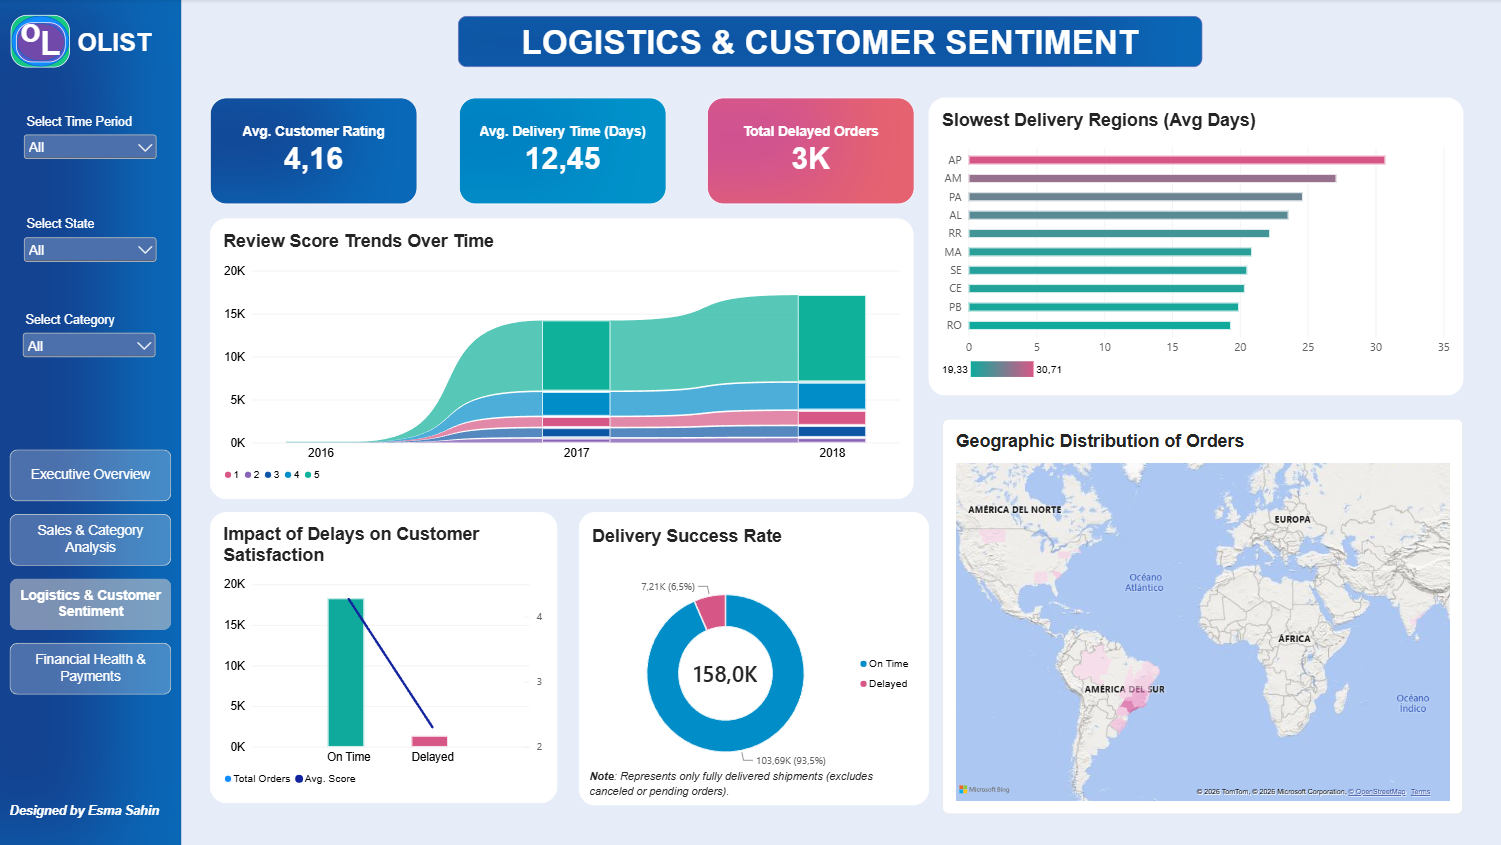

Layout of this report page (visuals, bound fields, positions):
{"tool":"powerbi","page":{"name":"Logistics & Customer Sentiment","canvas":[1920,1080],"ordinal":2},"visuals":[{"type":"shape","box":[0,0,232.2,1080.1],"z":0},{"type":"shape","box":[15.2,20.8,75.8,67],"z":0,"group":"g1"},{"type":"slicer","fields":{"Values":["06_fact_order_items.order_purchase_date.Variation.Jerarquía de fechas.Año","06_fact_order_items.order_purchase_date.Variation.Jerarquía de fechas.Mes"]},"box":[28.2,146.9,178.8,74.2],"z":0,"group":"g2"},{"type":"shape","box":[22,29.7,63.5,50.8],"z":1000,"group":"g1"},{"type":"slicer","fields":{"Values":["08_dim_customers.customer_state"]},"box":[28.2,278.1,178.8,69.7],"z":1000,"group":"g2"},{"type":"lineClusteredColumnComboChart","title":"Impact of Delays on Customer Satisfaction","fields":{"Category":["09_fact_reviews_and_logistics.delivery_status"],"Y":["Count(09_fact_reviews_and_logistics.order_id)"],"Y2":["Avg(09_fact_reviews_and_logistics.review_score)"]},"box":[269.2,653.8,442.3,371.2],"z":1000},{"type":"textbox","box":[27.5,16.3,72.5,81.9],"z":2000,"group":"g1"},{"type":"cardVisual","fields":{"Data":["Count(09_fact_reviews_and_logistics.order_id)"]},"box":[901.9,125,264,136],"z":2000},{"type":"slicer","fields":{"Values":["07_dim_products.product_category_name_english"]},"box":[26.6,400,178.8,81.8],"z":2000,"group":"g2"},{"type":"textbox","box":[52.9,32.5,39.5,52.3],"z":3000,"group":"g1"},{"type":"textbox","box":[100,36.7,96.2,39.2],"z":3000,"group":"g2"},{"type":"cardVisual","fields":{"Data":["Avg(09_fact_reviews_and_logistics.Delivery Days)"]},"box":[586.5,125,264,136],"z":3000},{"type":"group","id":"g1","title":"Group 1","box":[15.2,16.3,84.9,82.6],"z":4000,"group":"g2"},{"type":"cardVisual","fields":{"Data":["Avg(09_fact_reviews_and_logistics.review_score)"]},"box":[269.2,125,264,136],"z":4000},{"type":"ribbonChart","title":"Review Score Trends Over Time","fields":{"Category":["06_fact_order_items.order_purchase_date.Variation.Jerarquía de fechas.Año","06_fact_order_items.order_purchase_date.Variation.Jerarquía de fechas.Mes"],"Y":["Count(09_fact_reviews_and_logistics.order_id)"],"Series":["09_fact_reviews_and_logistics.review_score"]},"box":[269.2,278.8,896.2,357.7],"z":5000},{"type":"pageNavigator","box":[14.3,573.9,206.1,313.6],"z":5000,"group":"g2"},{"type":"filledMap","title":"Geographic Distribution of Orders","fields":{"Category":["08_dim_customers.customer_state"]},"box":[1201.9,534.6,663.5,503.8],"z":6000},{"type":"textbox","box":[14.1,1025,192.2,28.1],"z":6000,"group":"g2"},{"type":"barChart","title":"Slowest Delivery Regions (Avg Days)","fields":{"Category":["08_dim_customers.customer_state"],"Y":["Avg(09_fact_reviews_and_logistics.Delivery Days)"]},"box":[1184.6,125,680.8,378.8],"z":7000},{"type":"donutChart","title":"Delivery Success Rate","fields":{"Category":["09_fact_reviews_and_logistics.delivery_status"],"Y":["CountNonNull(06_fact_order_items.order_id)"]},"box":[738.3,653.3,446.7,373.3],"z":8000},{"type":"group","id":"g2","title":"Group 2","box":[14.1,16.3,206.3,1036.8],"z":9000},{"type":"textbox","box":[584.6,21.2,948.1,65.4],"z":10000},{"type":"textbox","box":[751.7,980,415,46.7],"z":10501}]}

Visuals, with their boxes in screenshot pixels (x1, y1, x2, y2), scaled from the page's 1920x1080 canvas onto the 1501x845 screenshot:
shape: x1=0, y1=0, x2=182, y2=844
shape: x1=12, y1=16, x2=71, y2=69
slicer - 06_fact_order_items.order_purchase_date.Variation.Jerarquía de fechas.Año x 06_fact_order_items.order_purchase_date.Variation.Jerarquía de fechas.Mes: x1=22, y1=115, x2=162, y2=173
shape: x1=17, y1=23, x2=67, y2=63
slicer - 08_dim_customers.customer_state: x1=22, y1=218, x2=162, y2=272
"Impact of Delays on Customer Satisfaction" lineClusteredColumnComboChart: x1=210, y1=512, x2=556, y2=802
textbox: x1=21, y1=13, x2=78, y2=77
cardVisual - Count(09_fact_reviews_and_logistics.order_id): x1=705, y1=98, x2=911, y2=204
slicer - 07_dim_products.product_category_name_english: x1=21, y1=313, x2=161, y2=377
textbox: x1=41, y1=25, x2=72, y2=66
textbox: x1=78, y1=29, x2=153, y2=59
cardVisual - Avg(09_fact_reviews_and_logistics.Delivery Days): x1=459, y1=98, x2=665, y2=204
"Group 1" group: x1=12, y1=13, x2=78, y2=77
cardVisual - Avg(09_fact_reviews_and_logistics.review_score): x1=210, y1=98, x2=417, y2=204
"Review Score Trends Over Time" ribbonChart: x1=210, y1=218, x2=911, y2=498
pageNavigator: x1=11, y1=449, x2=172, y2=694
"Geographic Distribution of Orders" filledMap: x1=940, y1=418, x2=1458, y2=812
textbox: x1=11, y1=802, x2=161, y2=824
"Slowest Delivery Regions (Avg Days)" barChart: x1=926, y1=98, x2=1458, y2=394
"Delivery Success Rate" donutChart: x1=577, y1=511, x2=926, y2=803
"Group 2" group: x1=11, y1=13, x2=172, y2=824
textbox: x1=457, y1=17, x2=1198, y2=68
textbox: x1=588, y1=767, x2=912, y2=803
